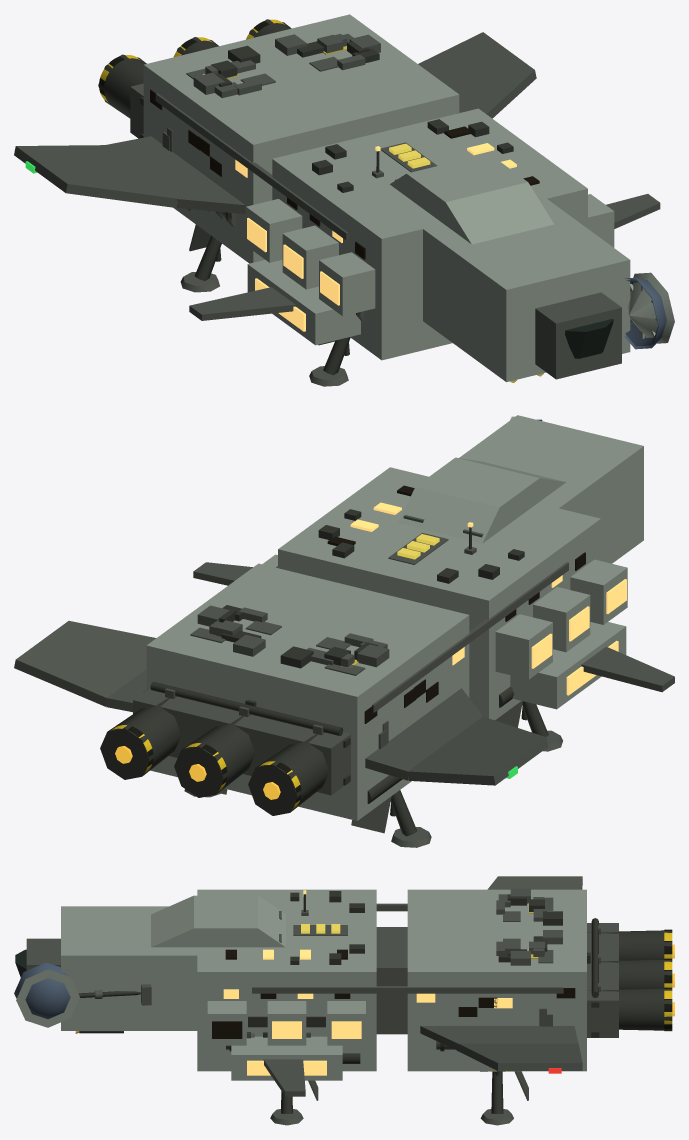
The model's file is liner-m.glb.
3 renders of one model, top to bottom at view 1: azimuth 30°, elevation 25°; view 2: azimuth 150°, elevation 25°; view 3: azimuth 270°, elevation 25°, orthographic. The views are drawn at different scales.
Visible parts, largest first — view 1: hullSection1, hullMain, hullNose, canopyFairing, wingOuterLeft, wingOuterRight, hullNoseTip, wingInnerLeft, noseRelocatedBayL, passengerPod2L, linerCanardLeft, passengerPod1L (+11 smaller); view 2: hullSection1, hullMain, hullNose, engineHousing (×3), canopyFairing, wingOuterRight, engineBayExtension, wingOuterLeft, wingInnerLeft, noseRelocatedBayL, passengerPod0L, linerCanardLeft (+8 smaller); view 3: hullSection1, hullMain, hullNose, canopyFairing, engineHousing (×3), gantry0, noseRelocatedBayR, wingOuterRight, engineBayExtension, wingInnerRight, accentStripeR, commDish (+16 smaller).
Boxes of the visible parts, x1,y1,x2,y2 form: hullSection1: [143, 14, 459, 263]; hullMain: [272, 108, 587, 360]; hullNose: [418, 194, 630, 382]; canopyFairing: [390, 153, 553, 244]; wingOuterLeft: [14, 145, 177, 207]; wingOuterRight: [418, 32, 536, 118]; hullNoseTip: [535, 292, 621, 379]; wingInnerLeft: [105, 136, 245, 214]; noseRelocatedBayL: [247, 260, 360, 345]; passengerPod2L: [319, 252, 375, 316]; linerCanardLeft: [189, 287, 295, 320]; passengerPod1L: [282, 225, 338, 289]; hullSection1: [146, 563, 469, 820]; hullMain: [278, 467, 600, 720]; hullNose: [459, 415, 643, 563]; engineHousing (×3): [100, 697, 329, 815]; canopyFairing: [398, 457, 566, 543]; wingOuterRight: [14, 621, 156, 706]; engineBayExtension: [133, 688, 350, 795]; wingOuterLeft: [407, 716, 548, 785]; wingInnerLeft: [365, 688, 482, 780]; noseRelocatedBayL: [510, 622, 626, 709]; passengerPod0L: [495, 614, 552, 679]; linerCanardLeft: [581, 646, 674, 692]; hullSection1: [407, 889, 586, 1071]; hullMain: [197, 889, 376, 1071]; hullNose: [61, 906, 197, 1030]; canopyFairing: [151, 895, 285, 947]; engineHousing (×3): [587, 930, 672, 1030]; gantry0: [376, 927, 407, 1034]; noseRelocatedBayR: [231, 1036, 342, 1080]; wingOuterRight: [458, 1043, 582, 1070]; engineBayExtension: [587, 923, 618, 1037]; wingInnerRight: [420, 1026, 578, 1050]; accentStripeR: [252, 986, 563, 993]; commDish: [14, 962, 70, 1019].
Size of the model in its own units: 5.51 by 2.32 by 8.14.
